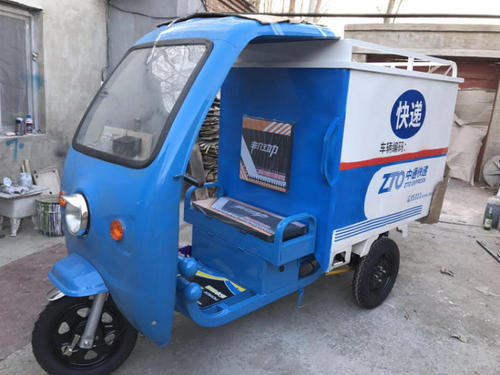tricycle: (56, 9, 454, 375)
